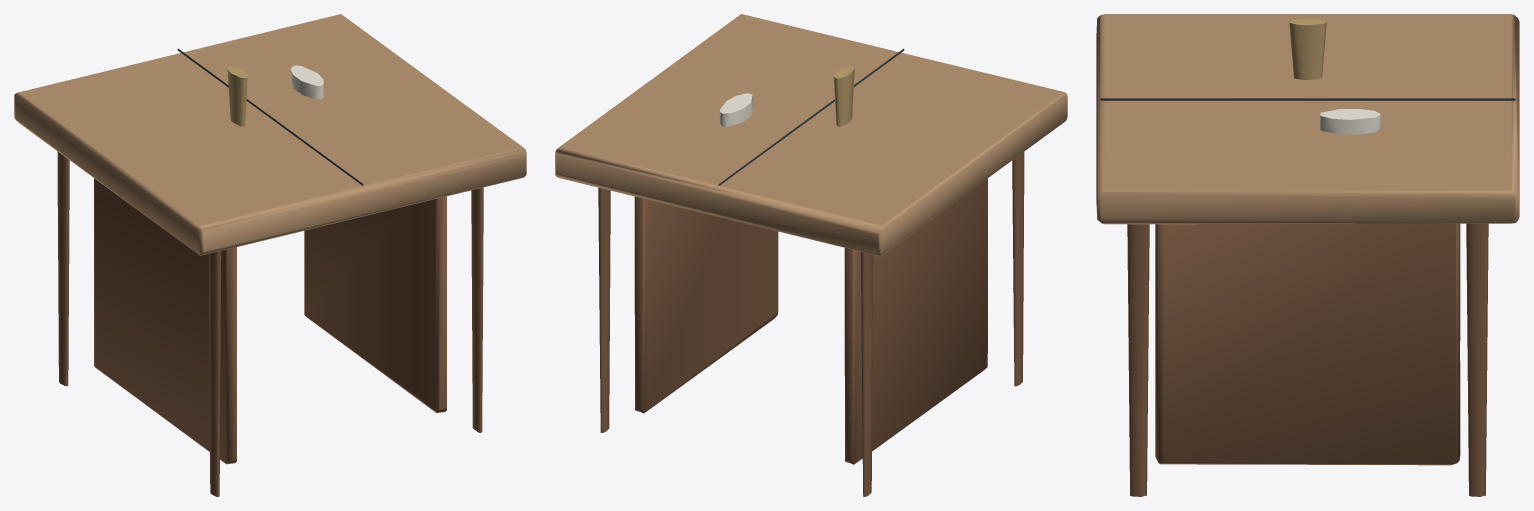
File: table-4-2.lod.glb
3 views of the same model, side by side, from view 1: azimuth 30°, elevation 25°; view 2: azimuth 150°, elevation 25°; view 3: azimuth 270°, elevation 25° (orthographic). The views are drawn at different scales.
Parts seen in each view (by area): view 1: upholstery, part (×3); view 2: upholstery, part (×3); view 3: part (×3), upholstery, extension-seam.
Part boxes in pixels (<box>): upholstery: <box>14,14,526,255</box>; part (×3): <box>57,65,483,496</box>; upholstery: <box>555,14,1067,256</box>; part (×3): <box>598,66,1024,496</box>; part (×3): <box>1127,18,1488,496</box>; upholstery: <box>1096,14,1519,224</box>; extension-seam: <box>1100,98,1515,100</box>.
Size of the model in its own units: 1 by 1 by 1.
